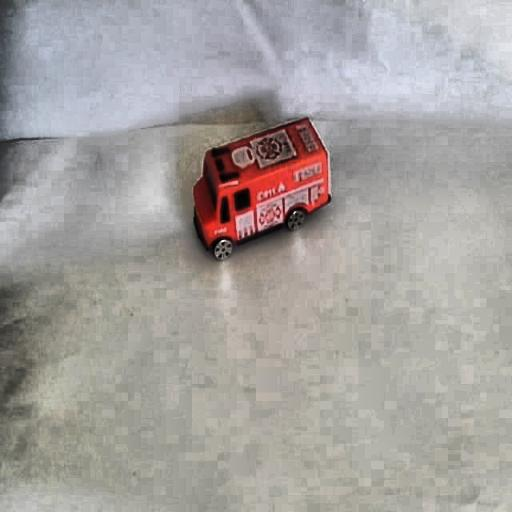fire_truck: (181, 114, 335, 271), (192, 177, 217, 249)
